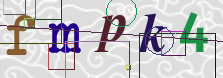4: (178, 9, 210, 55)
f: (5, 13, 36, 58)
k: (138, 11, 166, 54)
m: (47, 21, 83, 56)
p: (93, 14, 128, 54)
